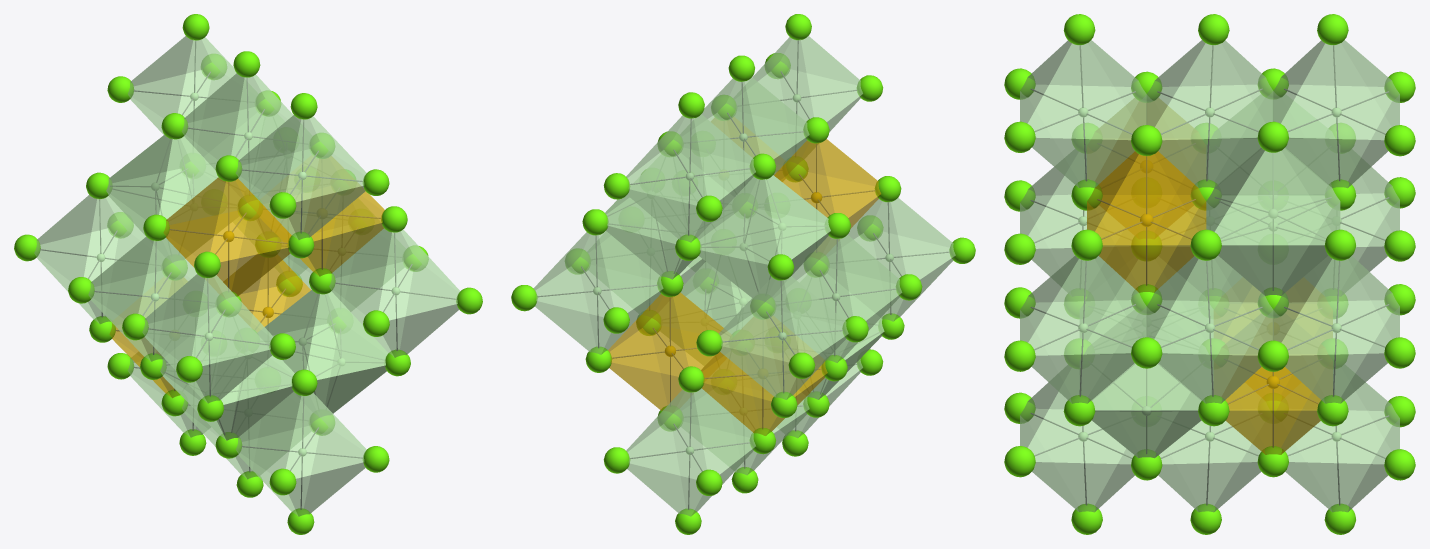
Rendered from Li2FeCl4.glb.
3 renders of one model, left to right at view 1: azimuth 30°, elevation 25°; view 2: azimuth 150°, elevation 25°; view 3: azimuth 270°, elevation 25°, orthographic. The views are drawn at different scales.
Visible parts, largest first — view 1: Shape_IndexedFaceSet, atom5_IndexedFaceSet, Shape_IndexedFaceSet.160, Shape_Cylinder, atom0_IndexedFaceSet; view 2: Shape_IndexedFaceSet, atom5_IndexedFaceSet, Shape_IndexedFaceSet.160, Shape_Cylinder, atom0_IndexedFaceSet; view 3: Shape_IndexedFaceSet, atom5_IndexedFaceSet, Shape_IndexedFaceSet.160, Shape_Cylinder, atom0_IndexedFaceSet.
Part boxes in pixels (<box>): Shape_IndexedFaceSet: <box>34,36,460,516</box>; atom5_IndexedFaceSet: <box>14,14,482,534</box>; Shape_IndexedFaceSet.160: <box>109,155,384,397</box>; Shape_Cylinder: <box>40,41,455,509</box>; atom0_IndexedFaceSet: <box>96,92,399,456</box>; Shape_IndexedFaceSet: <box>533,36,955,516</box>; atom5_IndexedFaceSet: <box>511,14,975,534</box>; Shape_IndexedFaceSet.160: <box>608,117,880,435</box>; Shape_Cylinder: <box>537,40,949,509</box>; atom0_IndexedFaceSet: <box>593,94,893,454</box>; Shape_IndexedFaceSet: <box>1020,40,1399,512</box>; atom5_IndexedFaceSet: <box>1004,14,1415,534</box>; Shape_IndexedFaceSet.160: <box>1087,98,1332,454</box>; Shape_Cylinder: <box>1030,45,1388,505</box>; atom0_IndexedFaceSet: <box>1078,107,1341,441</box>.
Bounding box in the file's own units: 11.86 × 16.51 × 11.89.
